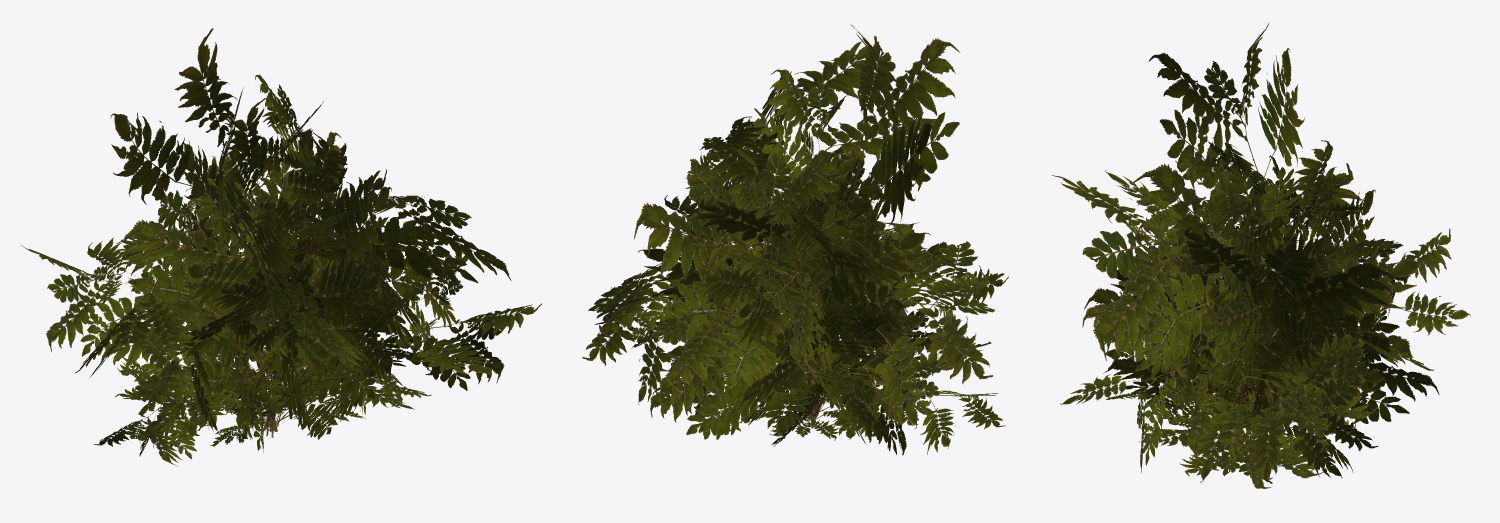
The model's file is bush_01.obj.
3 renders of one model, left to right at view 1: azimuth 30°, elevation 25°; view 2: azimuth 150°, elevation 25°; view 3: azimuth 270°, elevation 25°, orthographic. The views are drawn at different scales.
Visible parts, largest first — view 1: bush_01; view 2: bush_01; view 3: bush_01.
Part boxes in pixels (<box>): bush_01: <box>21,28,541,466</box>; bush_01: <box>582,24,1008,455</box>; bush_01: <box>1052,22,1470,488</box>.
Bounding box in the file's own units: 139 × 157 × 138.
